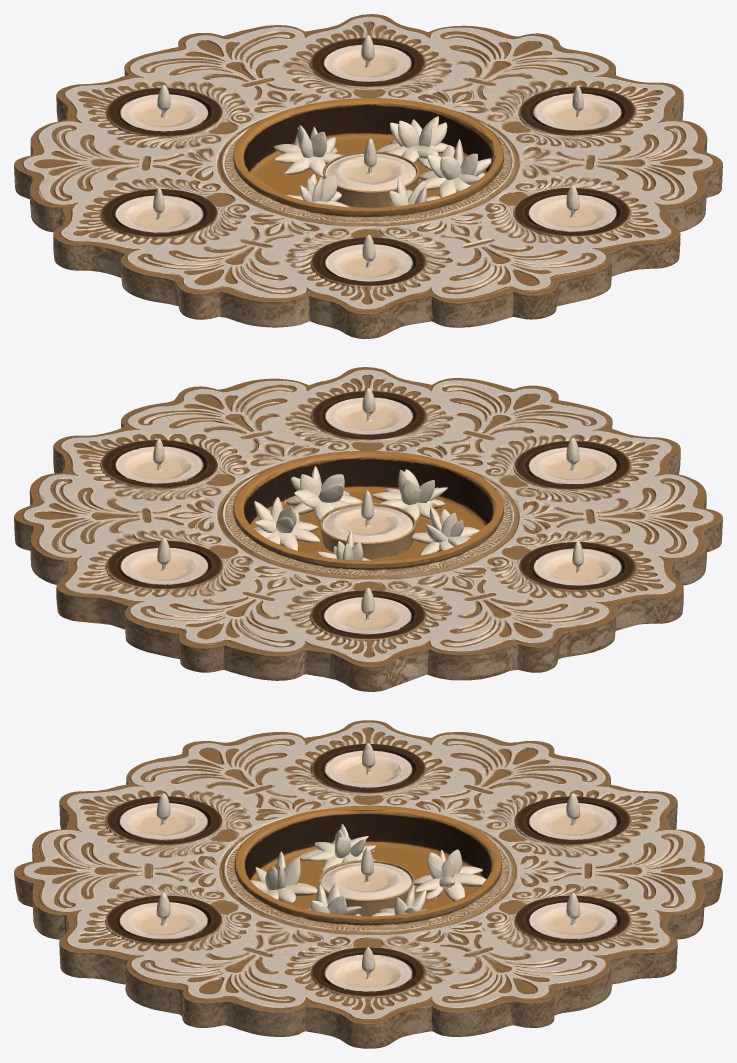
Rendered from behoma-wooden-t-light-urli-for-home-decor-with-candles-natur.glb.
The picture shows the model from 3 angles, top to bottom: view 1: azimuth 30°, elevation 25°; view 2: azimuth 150°, elevation 25°; view 3: azimuth 270°, elevation 25°; orthographic projection.
Visible parts, largest first — view 1: Mesh_0; view 2: Mesh_0; view 3: Mesh_0.
Boxes of the visible parts, x1,y1,x2,y2 form: Mesh_0: [14, 14, 722, 338]; Mesh_0: [14, 367, 722, 691]; Mesh_0: [14, 720, 722, 1048].
Size of the model in its own units: 1.9 by 0.1602 by 1.88.
1 material, 1 textured.
